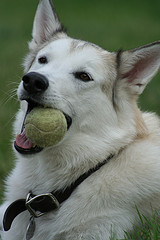tennis ball: (23, 104, 68, 146)
